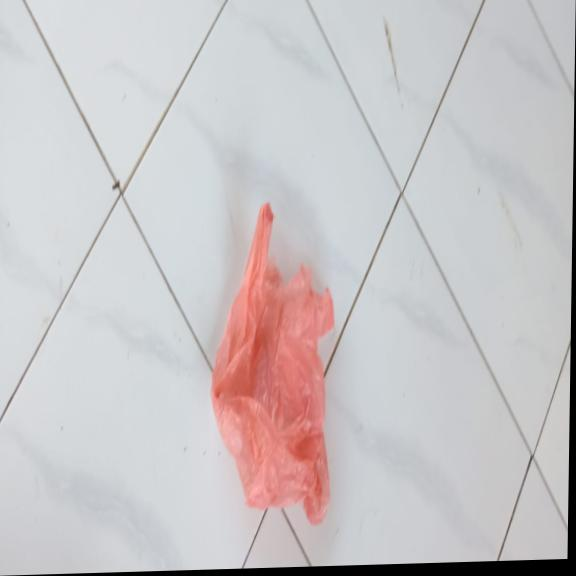Plastik: (208, 199, 337, 528)
